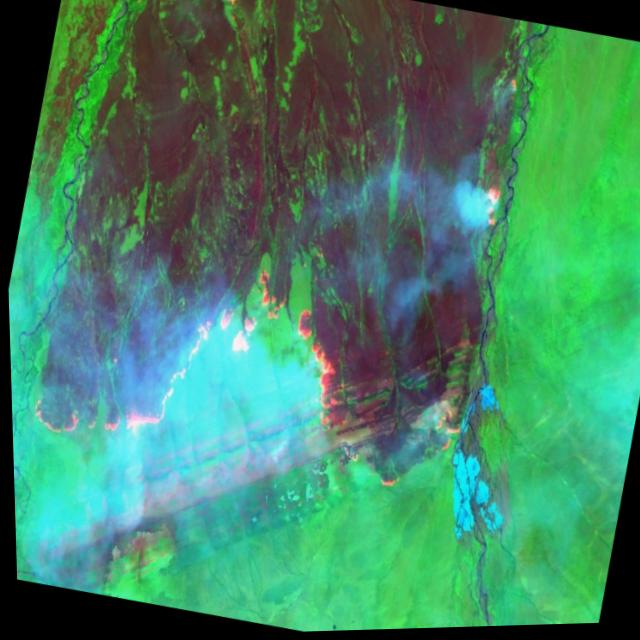fire: (15, 204, 503, 532), (467, 177, 512, 238)
